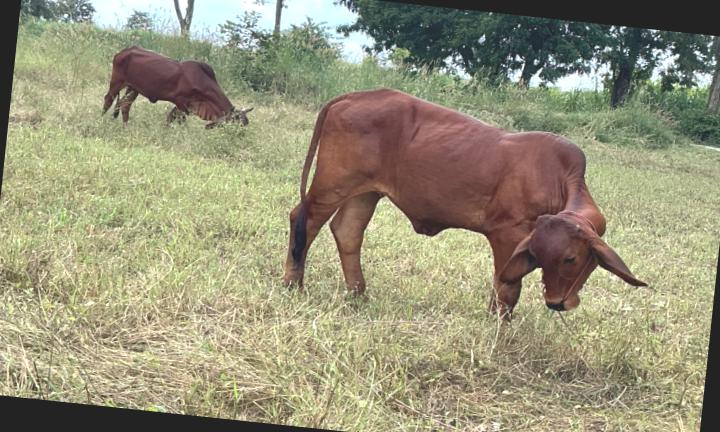Brahman: (284, 88, 647, 320), (103, 46, 253, 128)
